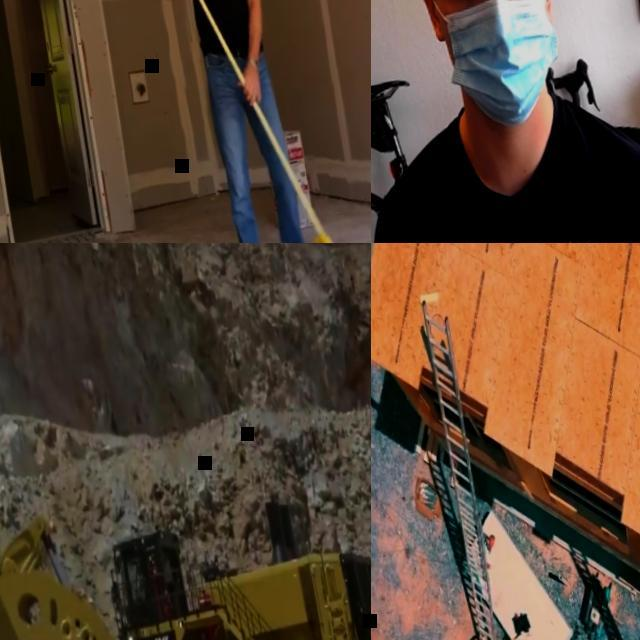machinery: (0, 378, 371, 640)
mask: (419, 0, 568, 139)
no_vest: (371, 89, 640, 243), (173, 0, 261, 65)
person: (371, 0, 640, 243), (131, 0, 335, 243)
